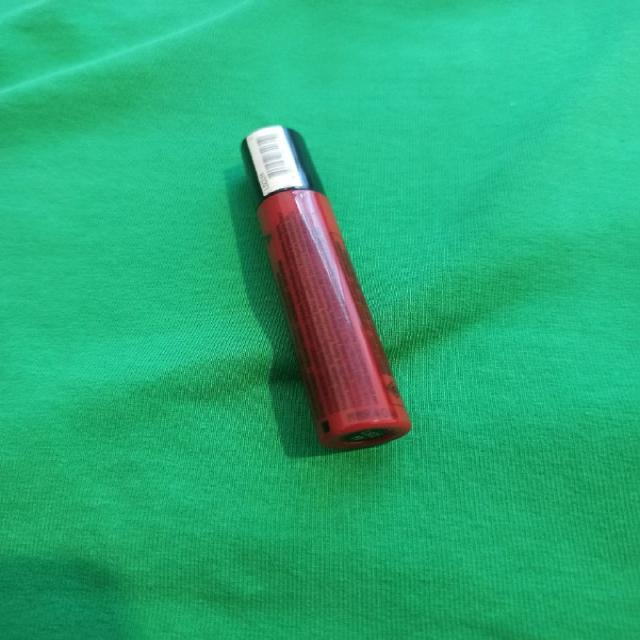lipstick: (243, 124, 411, 450)
